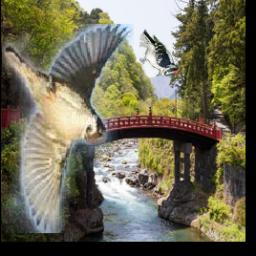Sparrow: (2, 25, 134, 234)
Woodpecker: (140, 29, 180, 76)
